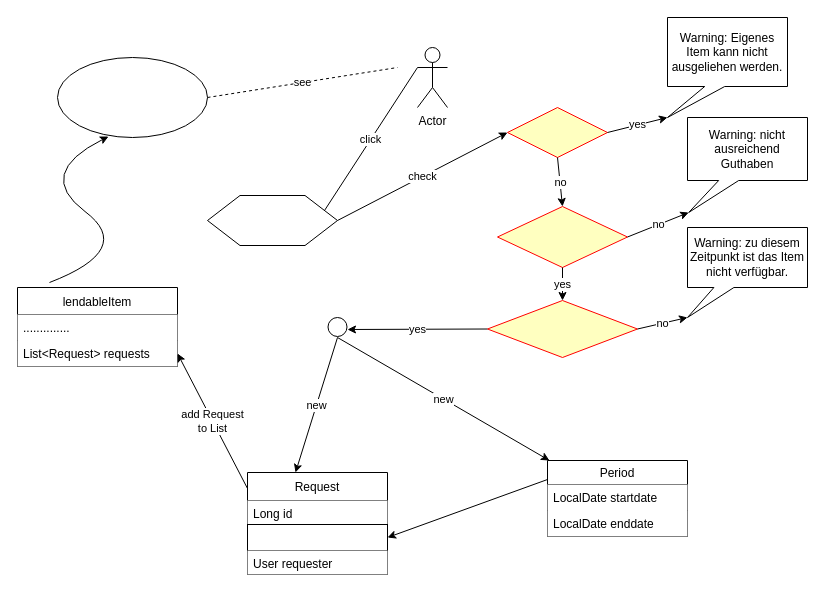
Some shapes in this 825 by 595 pixel diagram are drawn without their labels. Each missing label, with the centre of its shape:
Button: Anfragen: (x=272, y=220)
enoughCredit?: (x=562, y=237)
isAvailable?: (x=562, y=329)
isOwner?: (x=557, y=132)
lendableItemDetails: (x=132, y=97)
Period period: (x=317, y=537)
